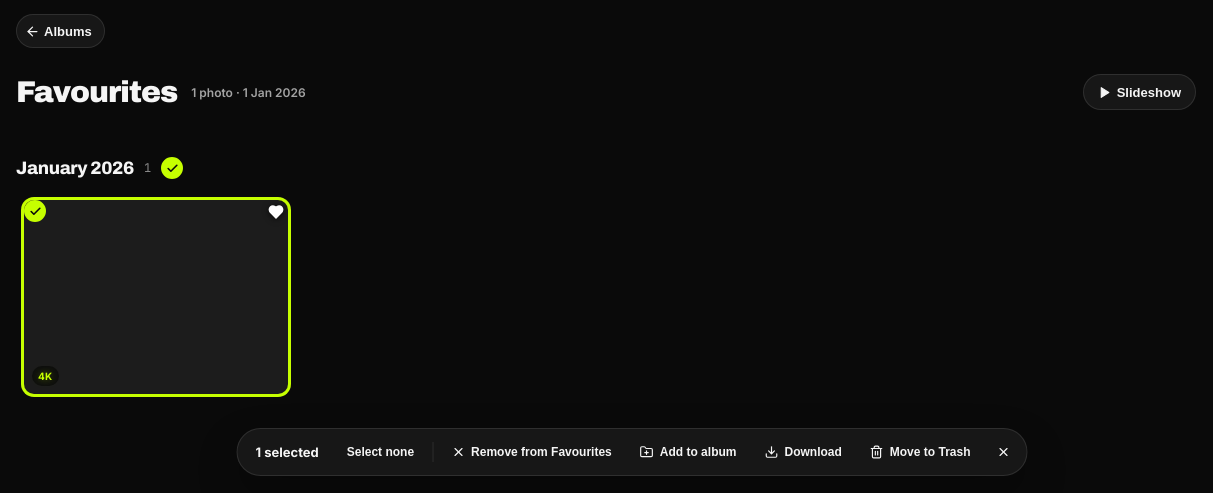
Test: AlbumPage › Favourites: no album menu, and selected photos can leave Favourites
Expected: the text "1 photo · 1 Jan 2026" is shown, [191,84,306,100]
Click the button "Remove from Favourites": {"x": 531, "y": 452} [439,435,624,469]
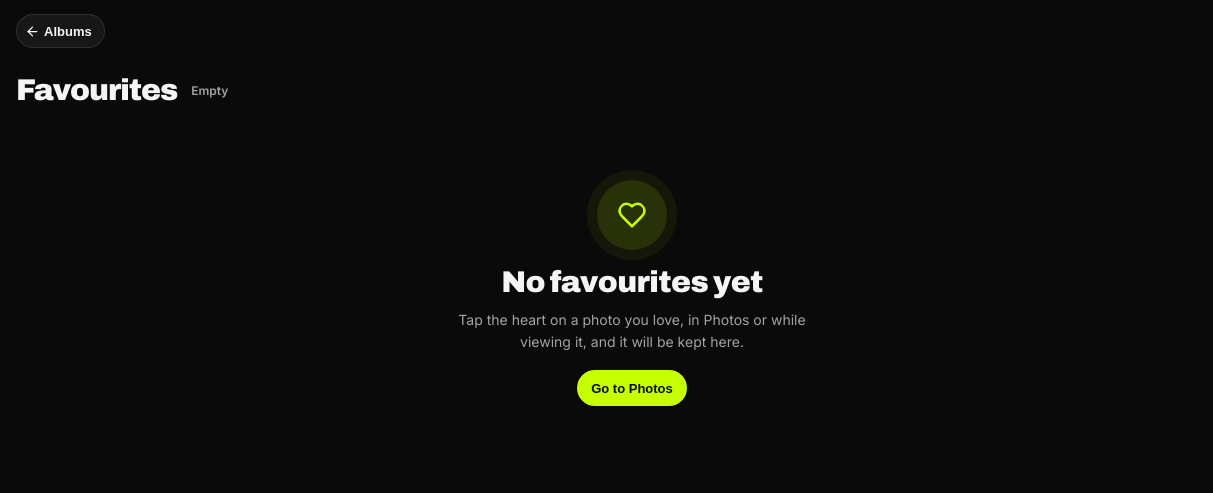
Expected: the heading "No favourites yet" is shown, [501,266,763,299]
